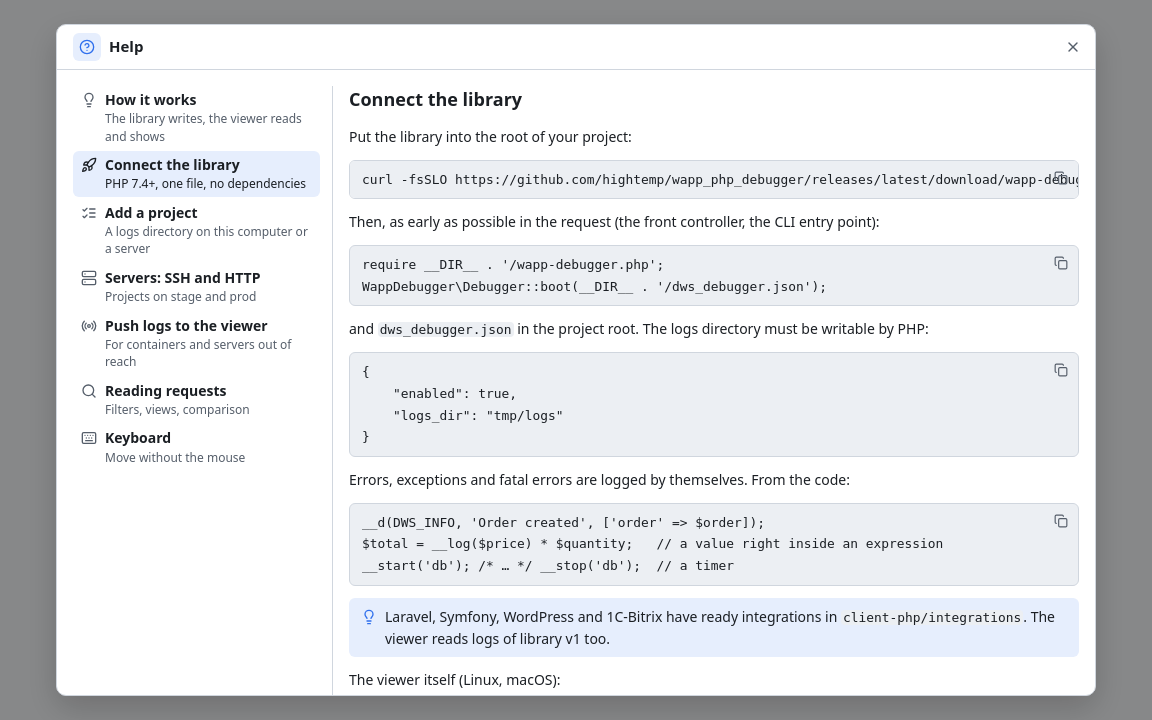
Test: HelpDialog › copies a code sample
Click the 1st button named "Copy".
click(1061, 178)  # box [1047,164,1075,192]
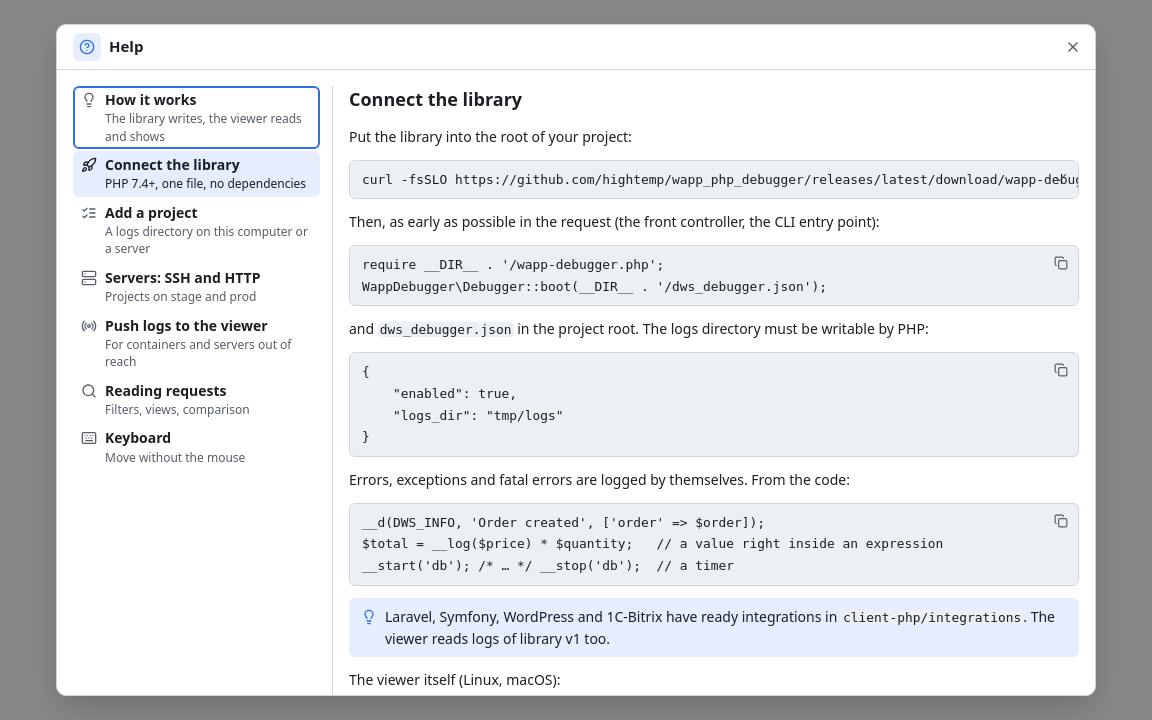
Expected: the button named "Copied" is shown, [1047,164,1075,192]
